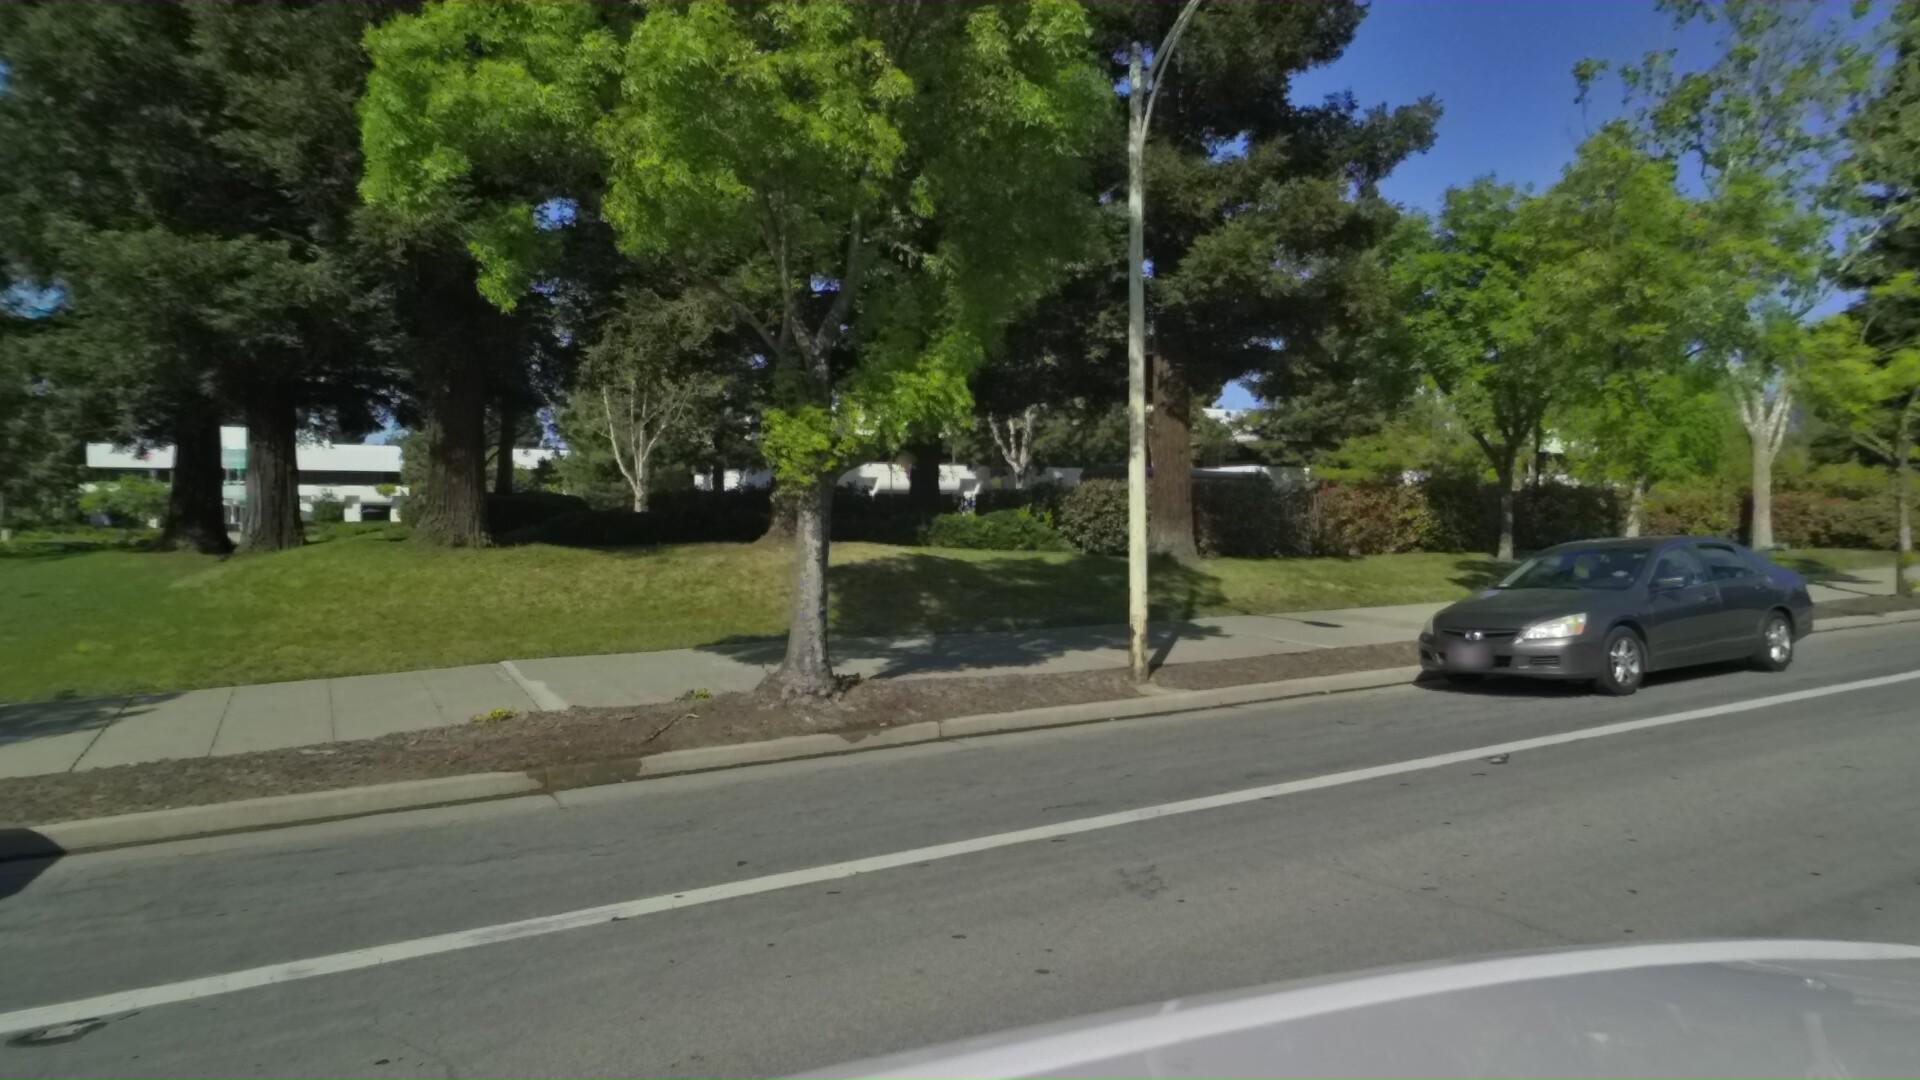car: (1352, 512, 1815, 708)
